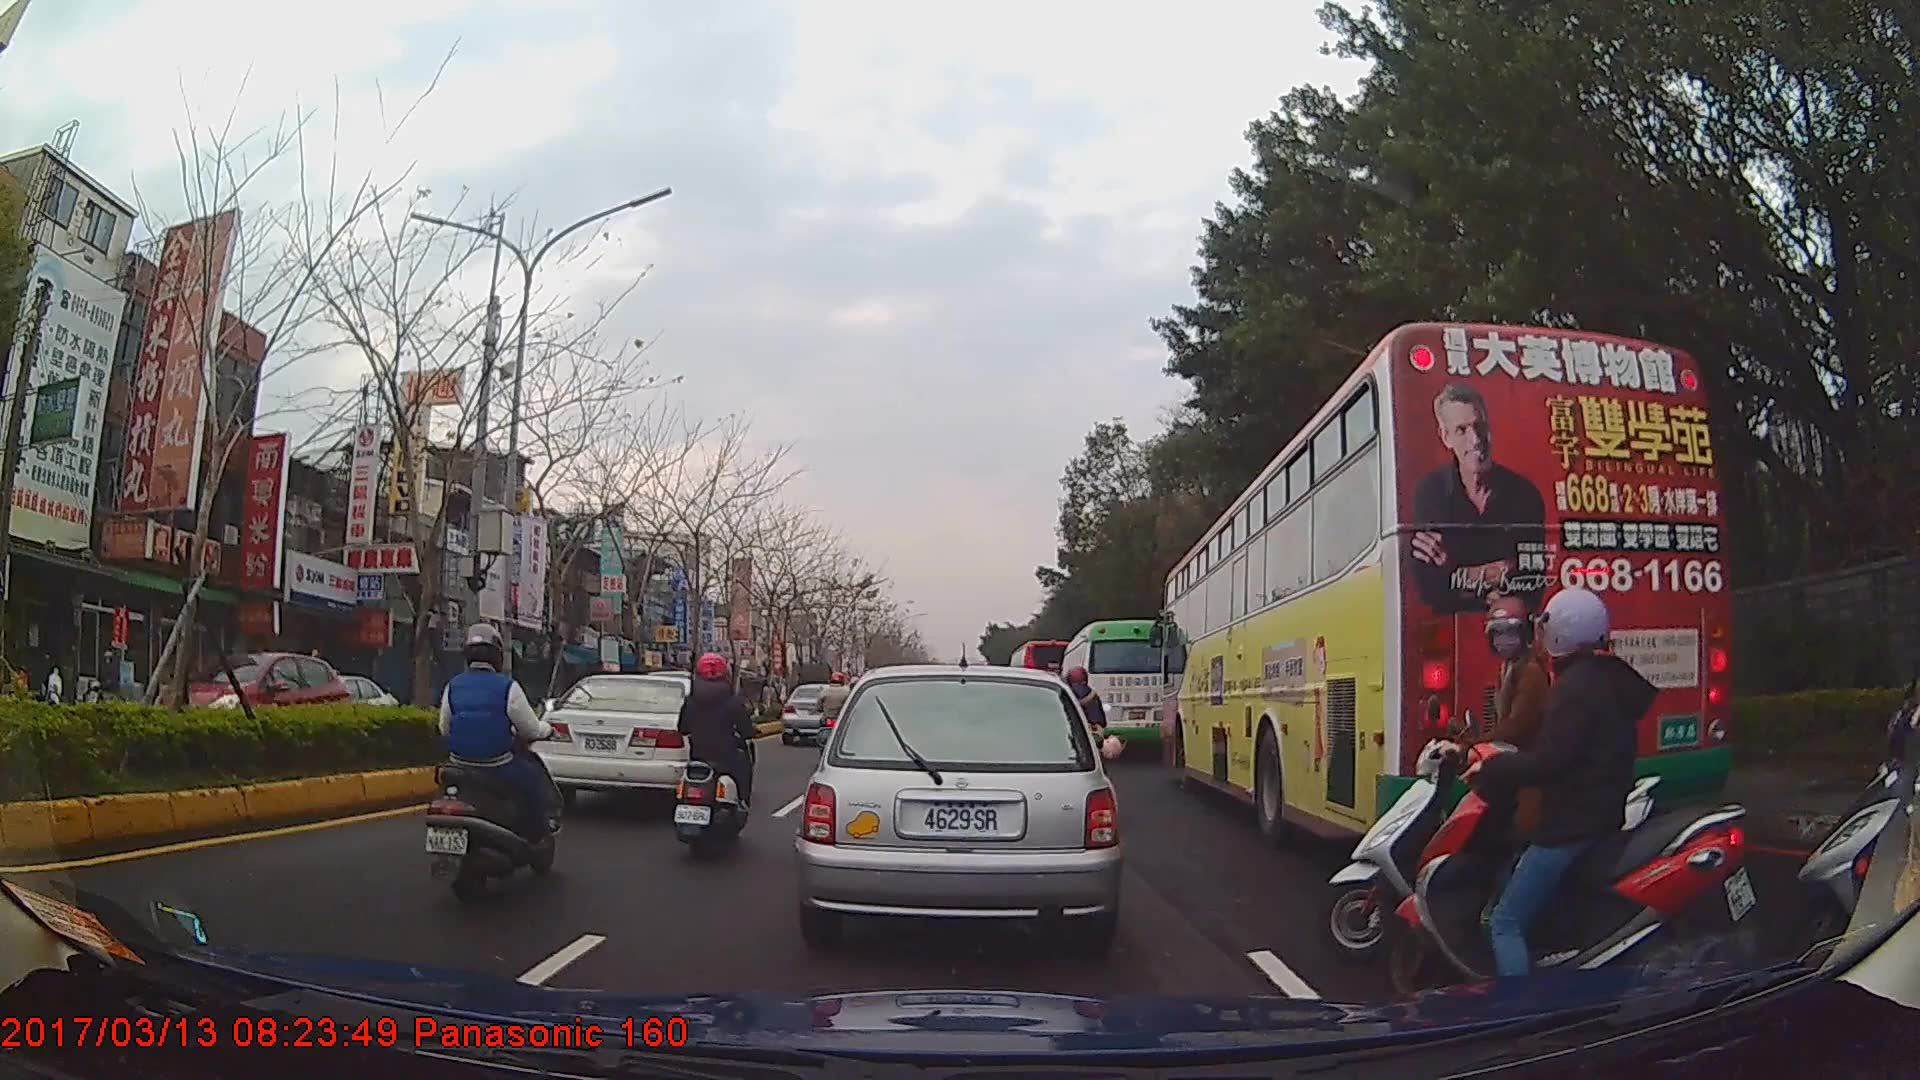rider: (1380, 583, 1763, 1045), (1313, 598, 1657, 977), (1793, 545, 1920, 977), (424, 626, 564, 897), (673, 649, 758, 861), (1057, 665, 1123, 785), (823, 671, 860, 759)
vehicle: (1163, 318, 1733, 854), (793, 662, 1121, 951), (534, 672, 754, 812), (148, 650, 346, 757), (1058, 618, 1186, 762), (265, 671, 392, 735)
